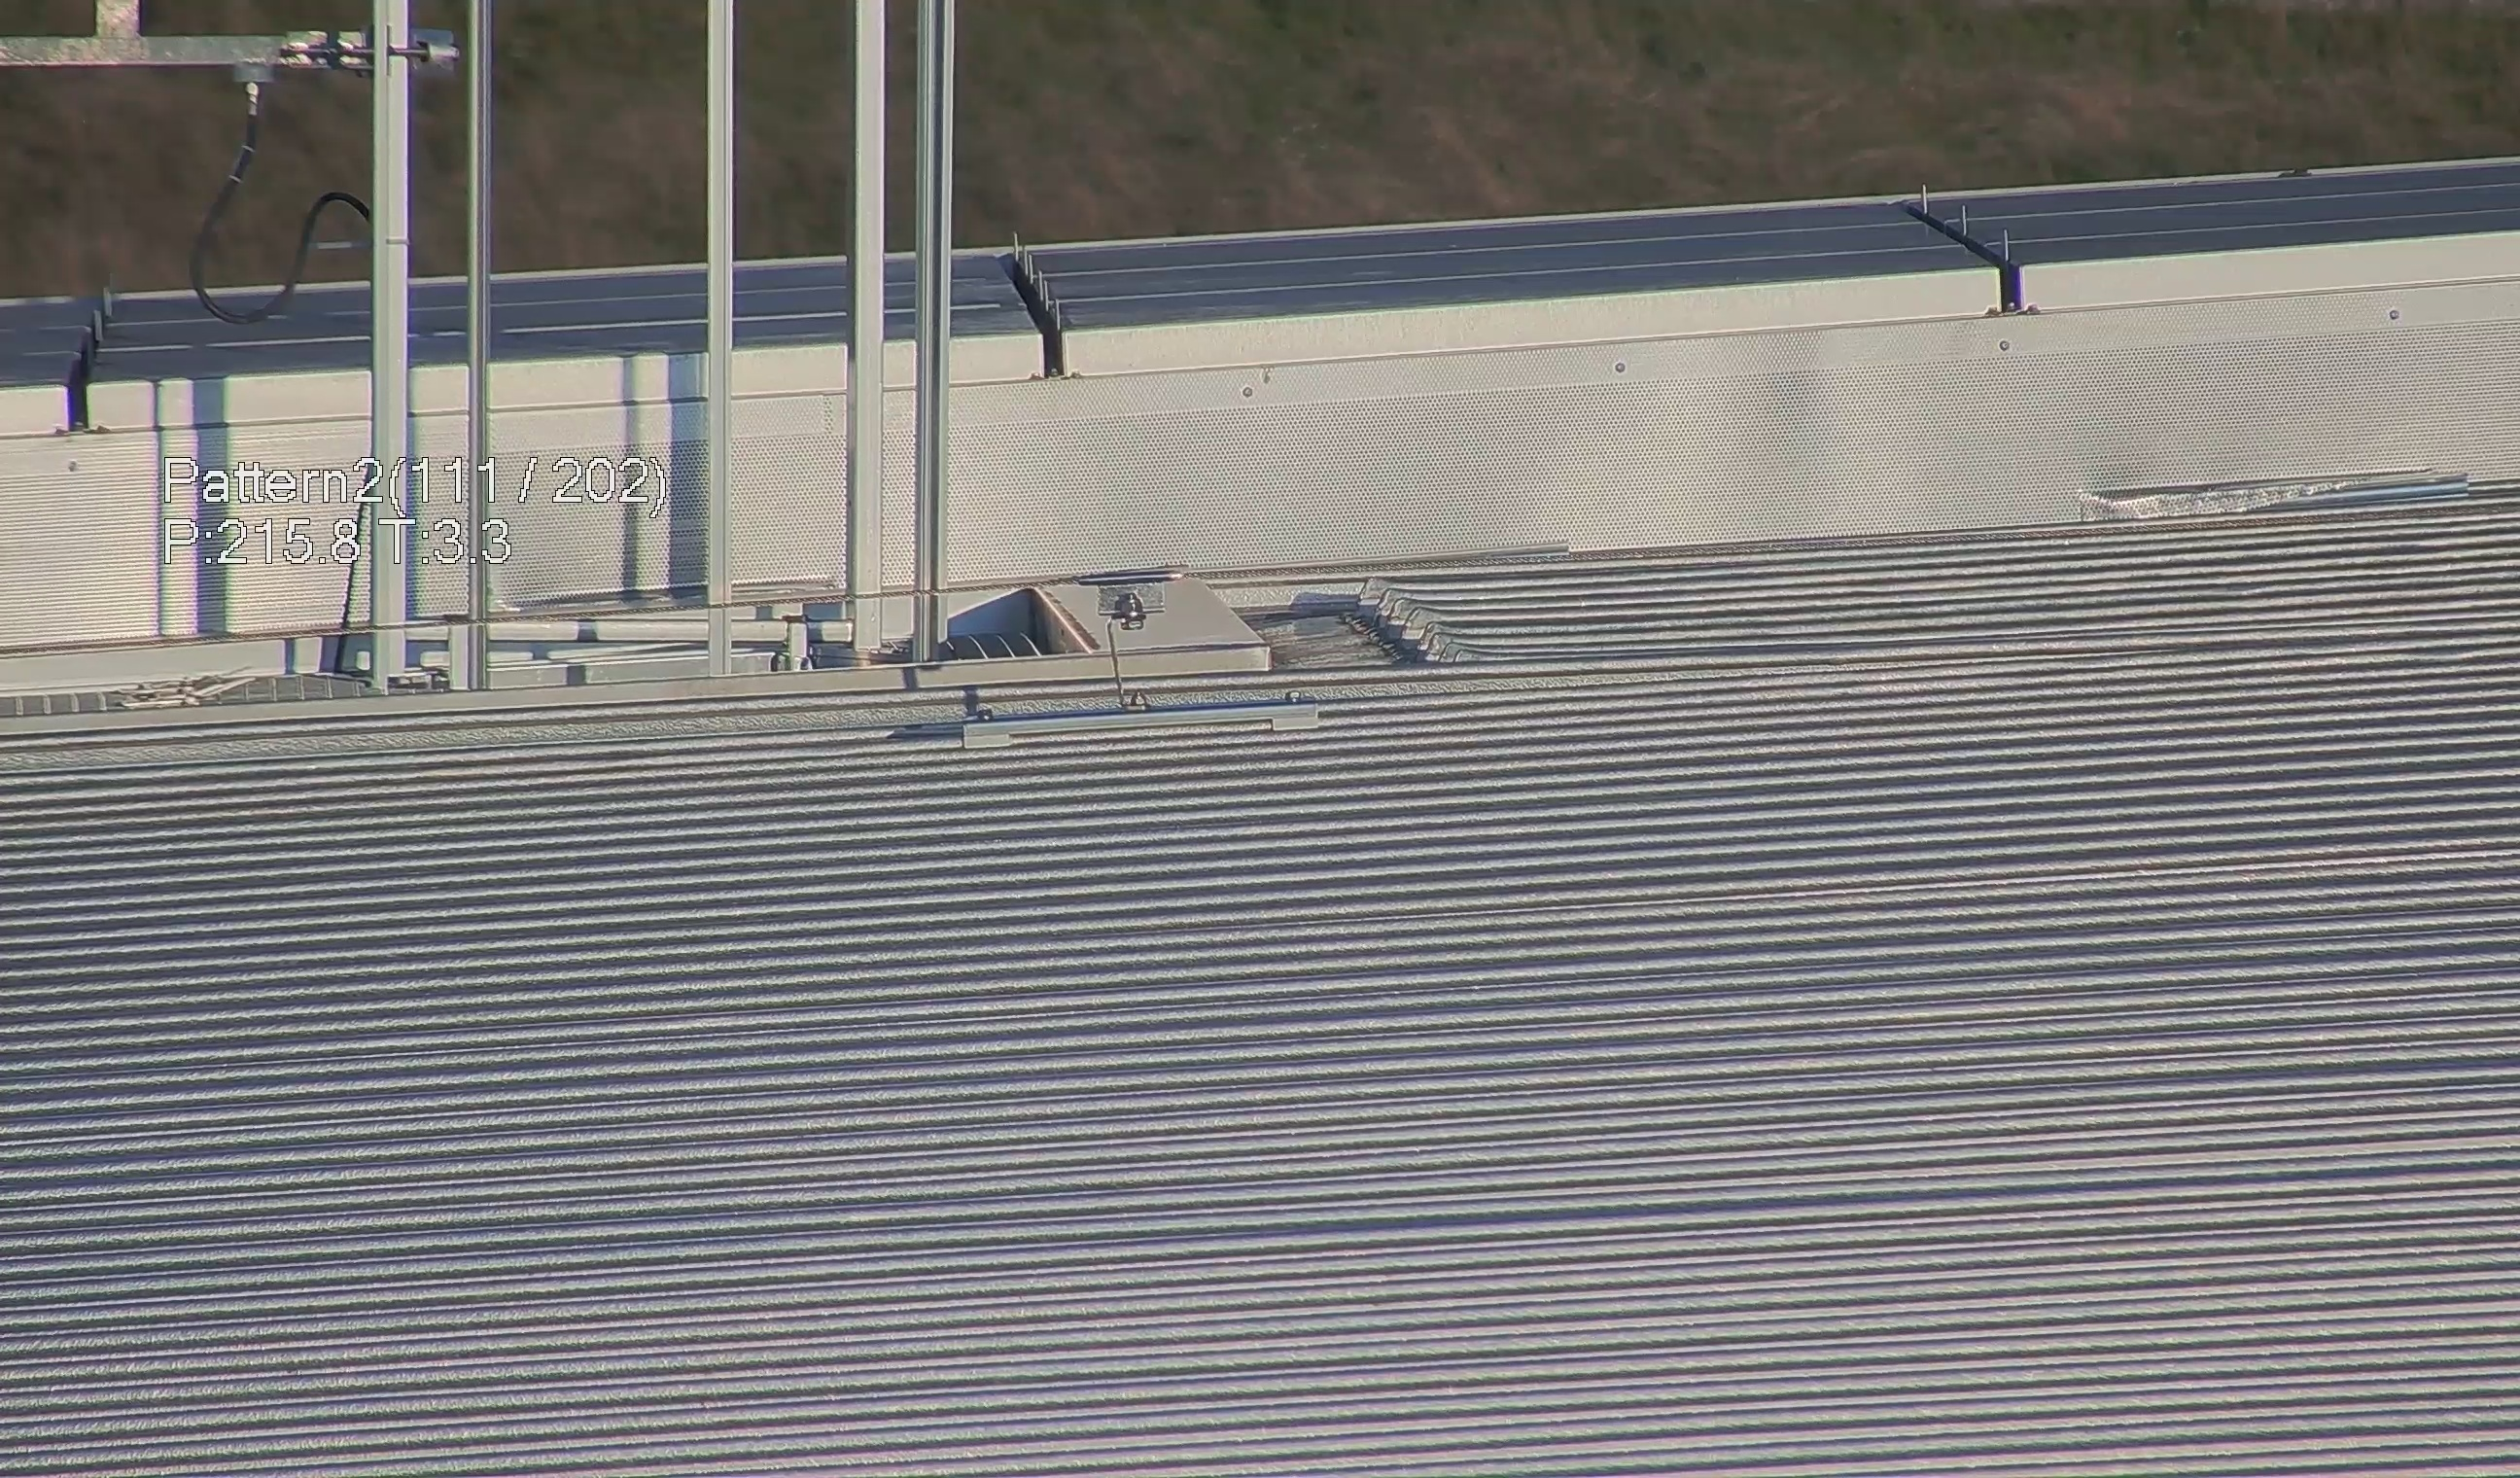Other: (971, 232, 1087, 391)
